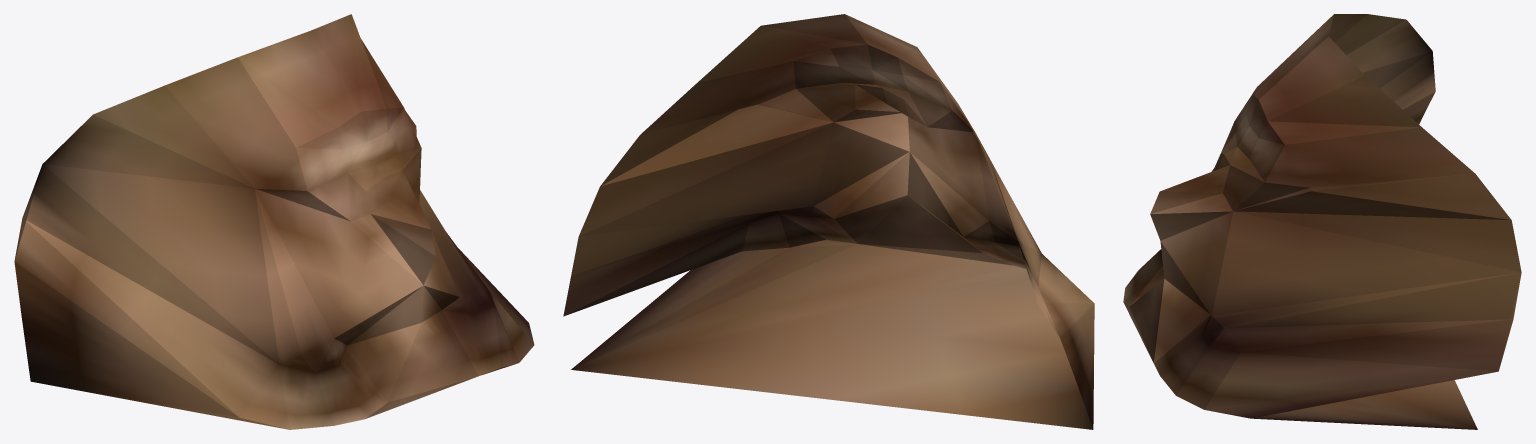
Rendered from real_8599.obj.
3 views of the same model, side by side, from view 1: azimuth 30°, elevation 25°; view 2: azimuth 150°, elevation 25°; view 3: azimuth 270°, elevation 25° (orthographic). The views are drawn at different scales.
Size of the model in its own units: 117 by 82 by 95.67.
